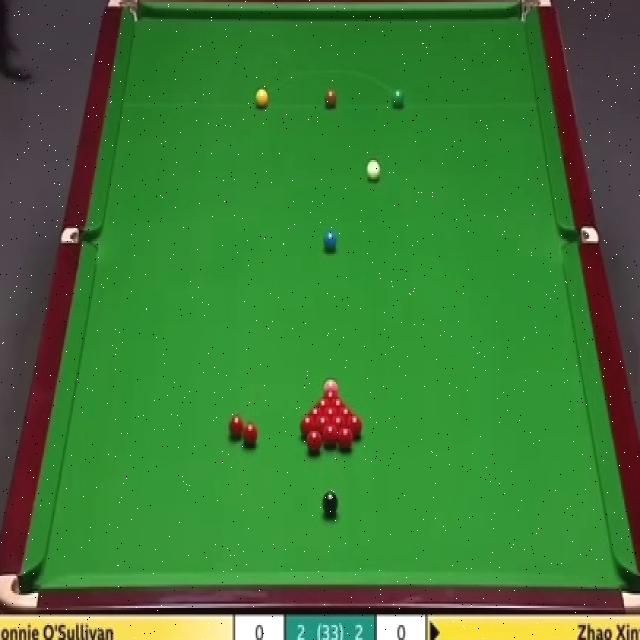black-ball: (322, 488, 338, 518)
blue-ball: (325, 231, 338, 254)
brown-ball: (326, 89, 338, 108)
green-ball: (392, 88, 404, 109)
pink-ball: (323, 374, 339, 393)
red-ball: (241, 423, 261, 449), (322, 424, 339, 449), (305, 431, 322, 456), (228, 414, 244, 439), (346, 415, 364, 436), (338, 429, 355, 451), (300, 415, 316, 437), (315, 415, 331, 431), (332, 417, 346, 435), (329, 398, 348, 409), (338, 407, 355, 418), (322, 408, 339, 418), (308, 408, 322, 419), (313, 399, 330, 408), (322, 389, 339, 398)
white-ball: (365, 158, 382, 184)
yellow-ball: (254, 86, 270, 109)
